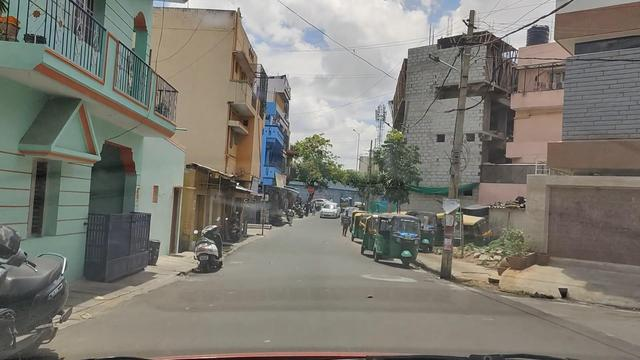LMV: (374, 217, 420, 263)
RoadDamages: (351, 268, 415, 286)
